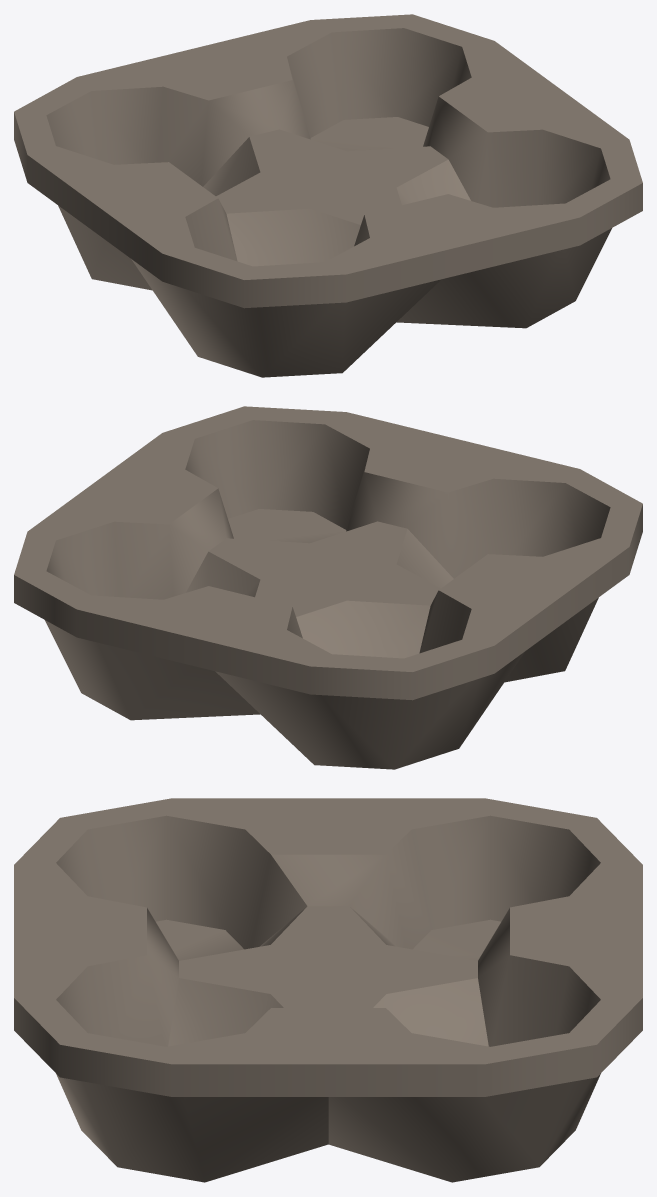
Rendered from SM_Prop_Coffee_Tray_01.obj.
3 views of the same model, one above another, from view 1: azimuth 30°, elevation 25°; view 2: azimuth 150°, elevation 25°; view 3: azimuth 270°, elevation 25° (orthographic). The views are drawn at different scales.
Parts seen in each view (by area): view 1: SM_Prop_Coffee_Tray_01_Mat_SwatchOverlay_PolygonOffice_01_Inst; view 2: SM_Prop_Coffee_Tray_01_Mat_SwatchOverlay_PolygonOffice_01_Inst; view 3: SM_Prop_Coffee_Tray_01_Mat_SwatchOverlay_PolygonOffice_01_Inst.
Boxes of the visible parts, x1,y1,x2,y2 form: SM_Prop_Coffee_Tray_01_Mat_SwatchOverlay_PolygonOffice_01_Inst: [14, 14, 642, 377]; SM_Prop_Coffee_Tray_01_Mat_SwatchOverlay_PolygonOffice_01_Inst: [14, 406, 642, 769]; SM_Prop_Coffee_Tray_01_Mat_SwatchOverlay_PolygonOffice_01_Inst: [14, 798, 642, 1182].
Bounding box in the file's own units: 0.3885 × 0.1 × 0.3885.
1 material, 1 textured.
